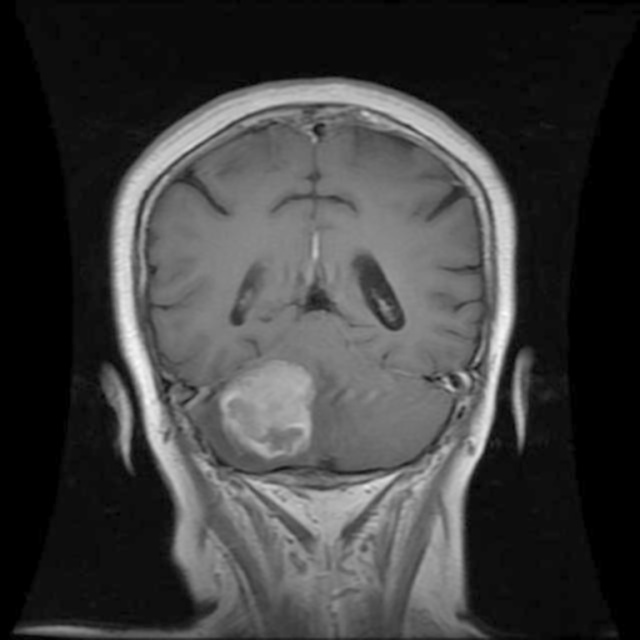meningioma tumor: (205, 350, 333, 471)
